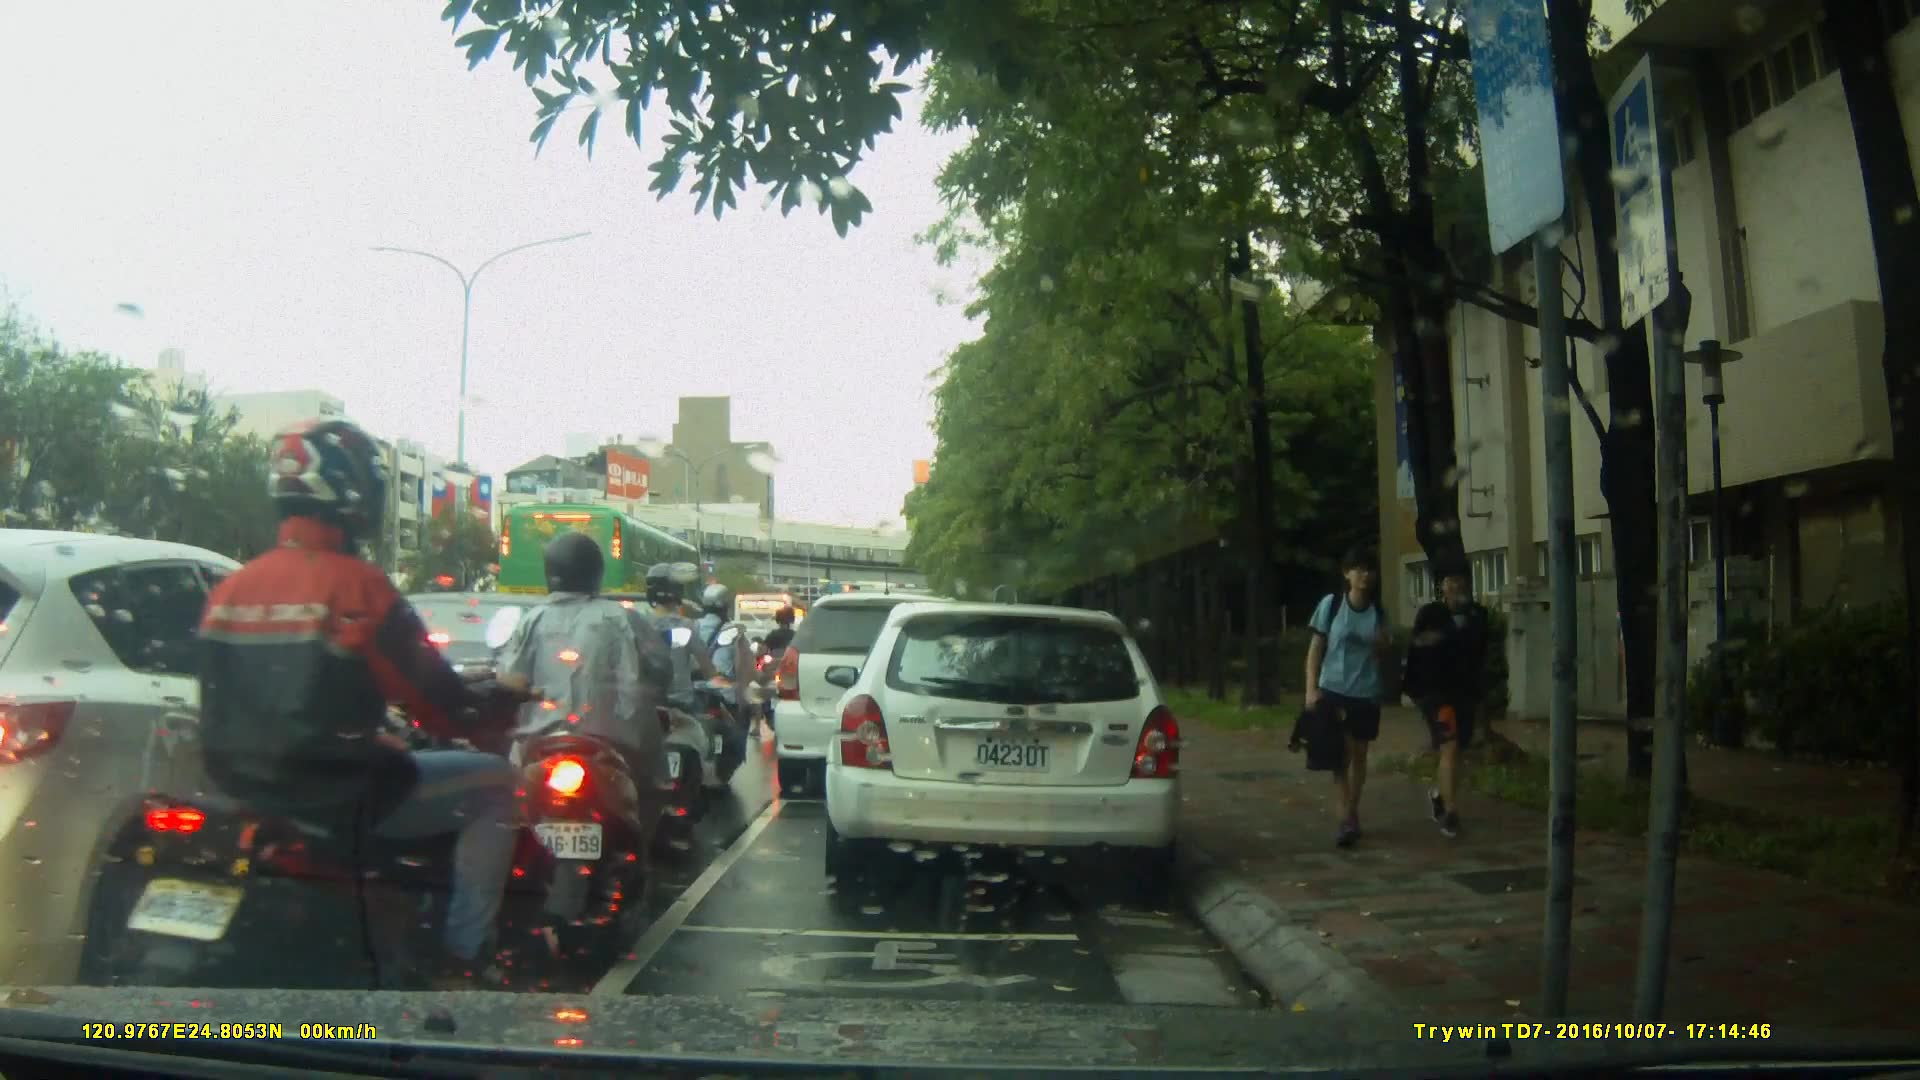pedestrian: (1288, 542, 1413, 849), (1415, 547, 1505, 840)
rider: (133, 415, 560, 1049), (497, 540, 694, 922), (611, 564, 723, 834), (681, 583, 758, 784), (759, 601, 804, 733)
vehicle: (1, 528, 452, 988), (831, 592, 1196, 897), (318, 590, 627, 788), (770, 590, 999, 803), (495, 501, 707, 636)
